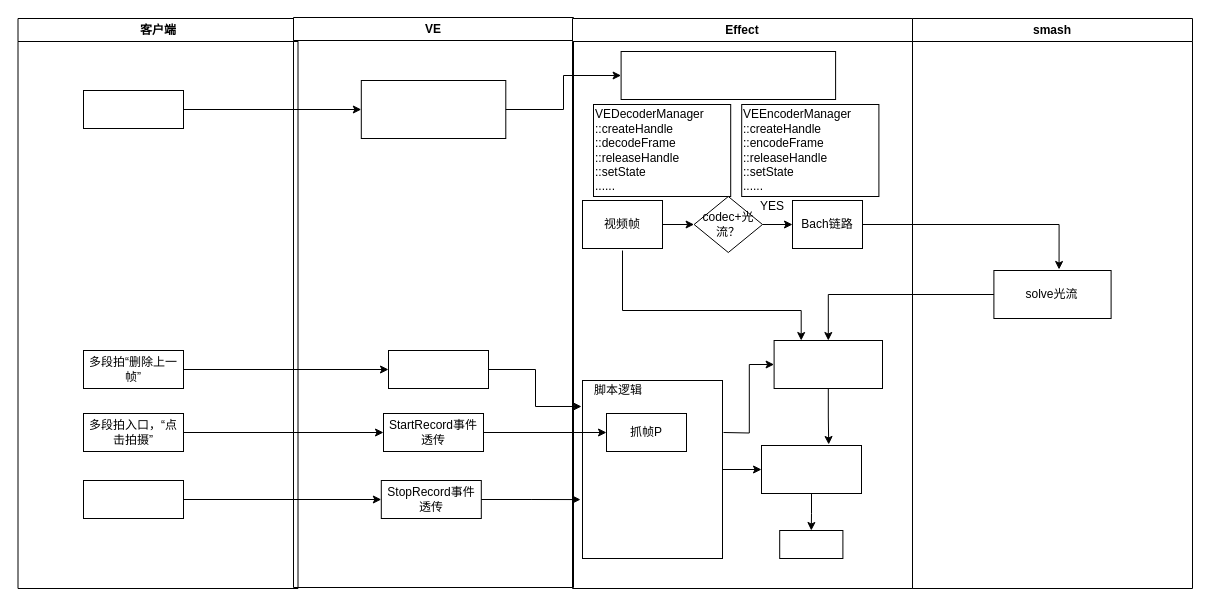
Image size: 1210x606. Some labels were removed from this diagram. Each missing label, with the centre of its shape:
bef_effect_codec_set_encoder bef_effect_codec_set_decoder: the point at 728,75
deleteLastFrame事件透传: the point at 438,369
IPPP编码（encodeFrame）: the point at 827,364
上屏: the point at 811,544
多段拍入口，“点击停止”: the point at 133,499
解码(decodeFrame): the point at 811,469
解码器/编码器接口指针透传Effect: the point at 433,109
进入主拍: the point at 133,109
